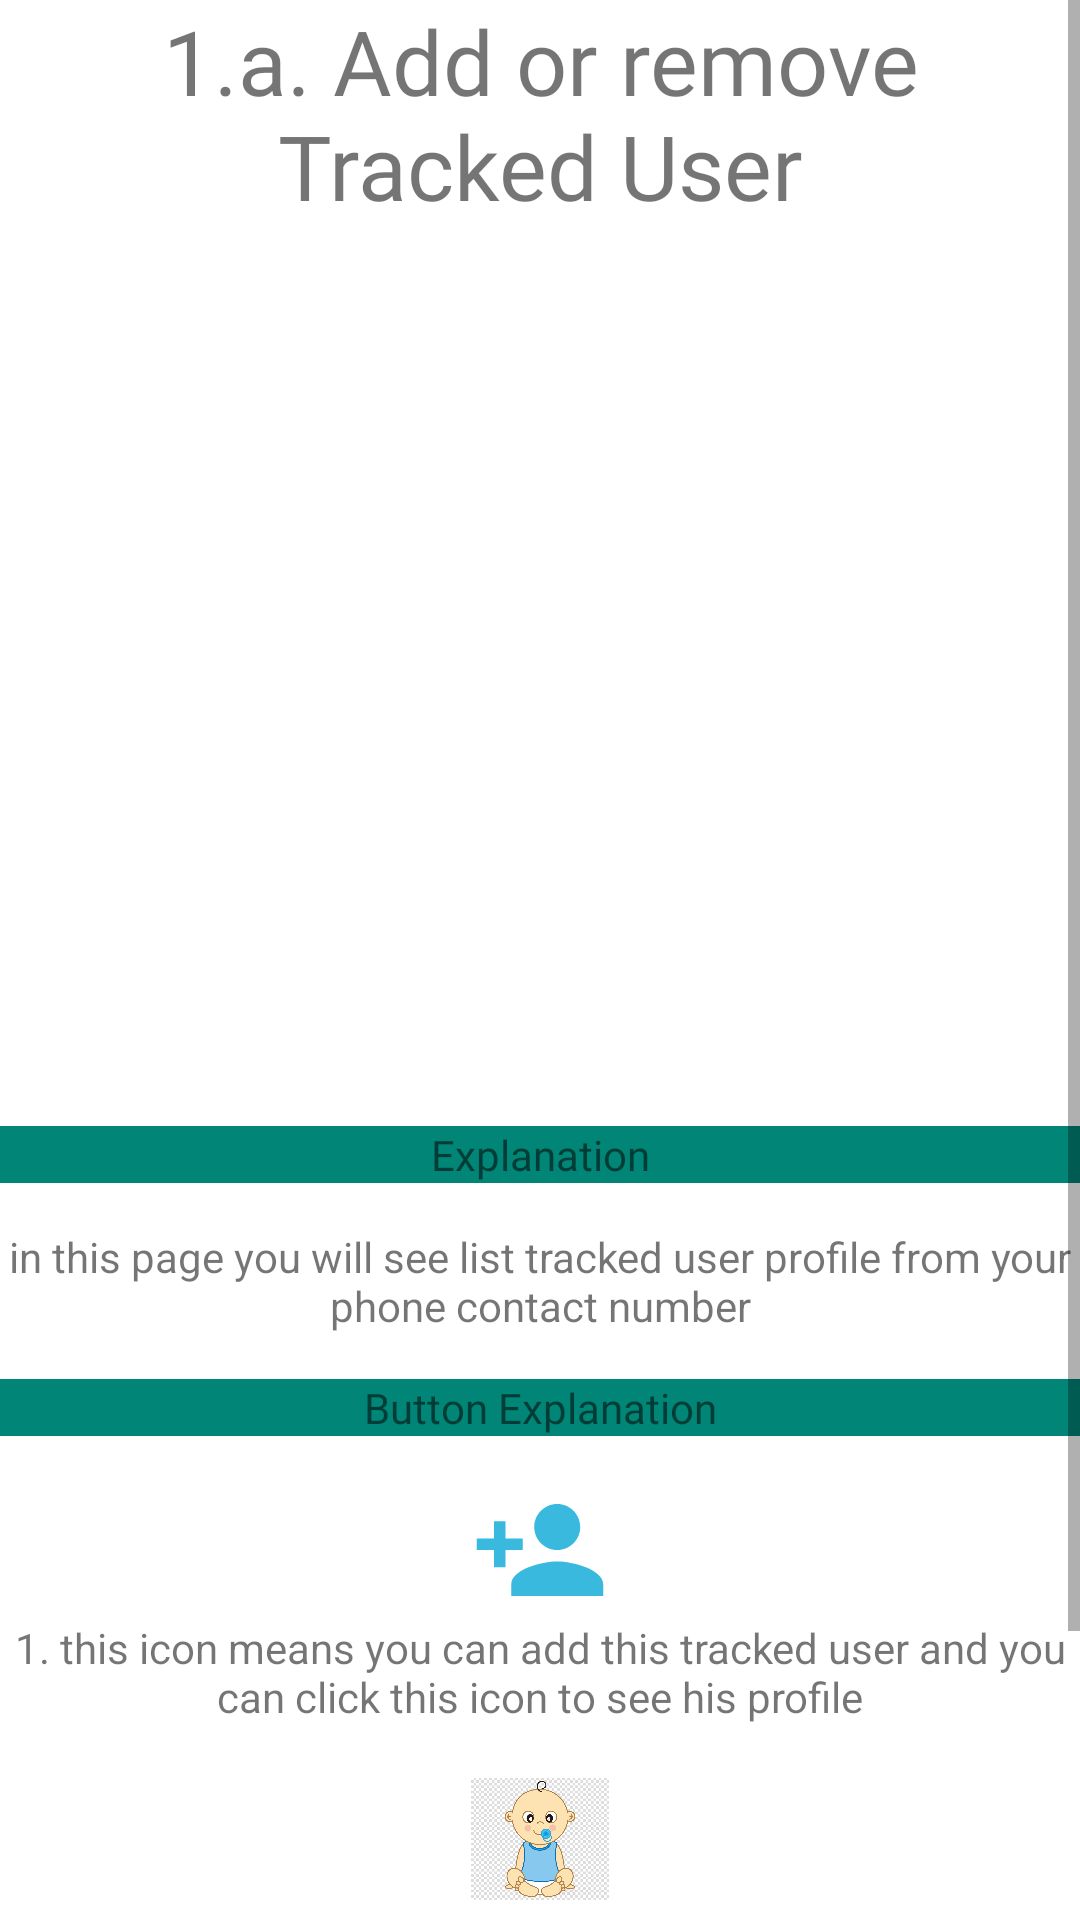

Where to tap for icons on this 1080w x 1920h app screen, as (x,y):
baby: (540,1839)
person add: (540,1550)
